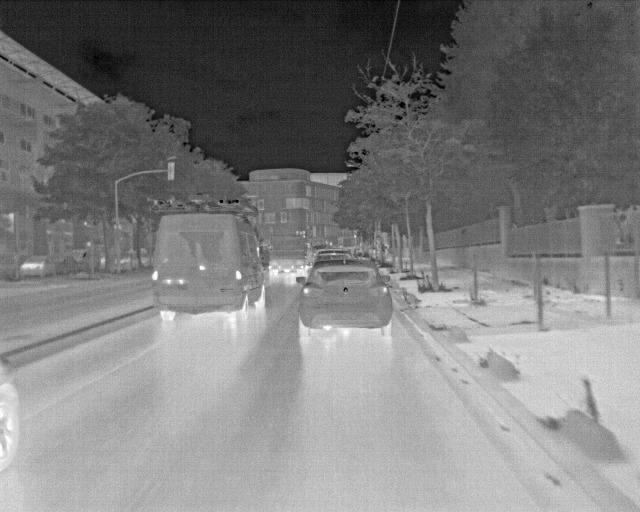car: (152, 208, 271, 321), (296, 259, 394, 338), (0, 353, 23, 470), (268, 233, 309, 277), (19, 256, 56, 278), (312, 250, 354, 269), (67, 249, 103, 271), (49, 254, 81, 274)
light: (167, 161, 175, 180), (302, 231, 306, 239), (354, 230, 357, 238)
sign: (113, 229, 122, 238)
